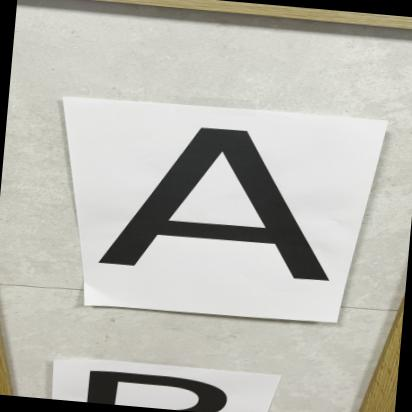seat: (93, 103, 352, 321)
